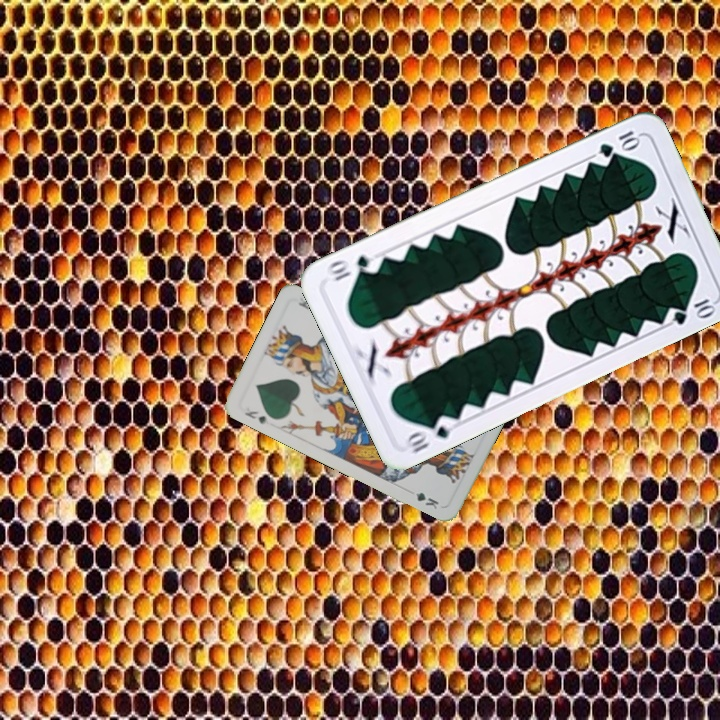G10: (401, 411, 459, 457), (595, 126, 643, 160)
GK: (241, 407, 271, 427)
